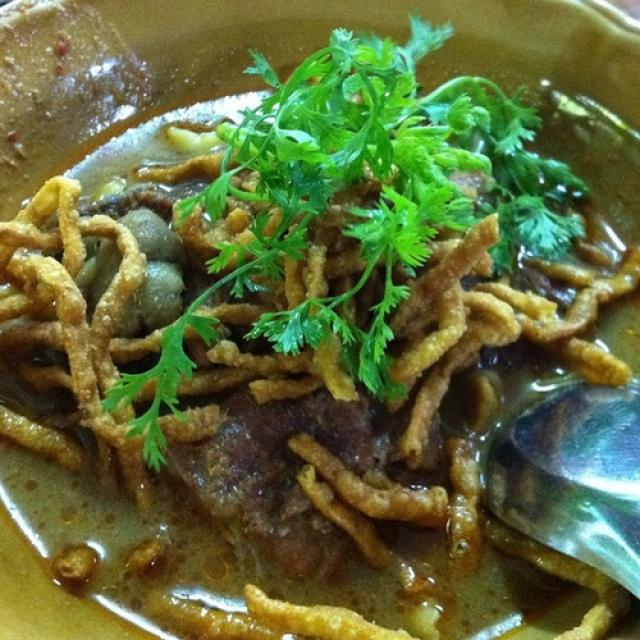面条主食: (18, 47, 613, 616)
